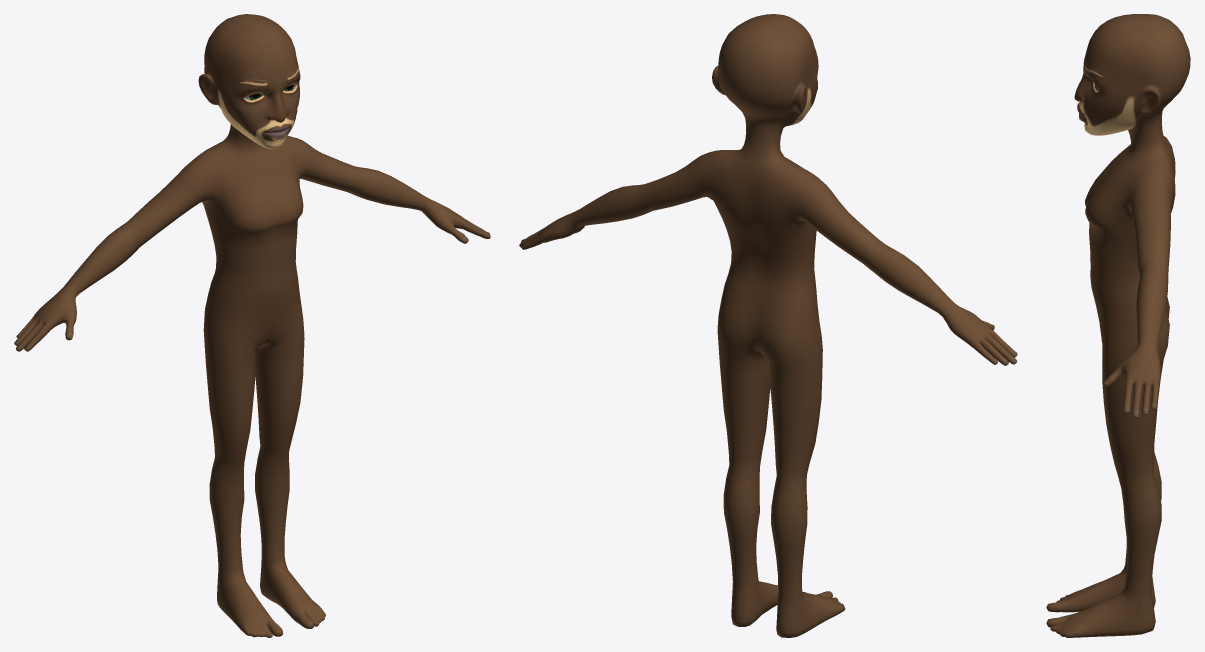
The model's file is frame_0001.glb.
3 renders of one model, left to right at view 1: azimuth 30°, elevation 25°; view 2: azimuth 150°, elevation 25°; view 3: azimuth 270°, elevation 25°, orthographic. The views are drawn at different scales.
Visible parts, largest first — view 1: frame_0001_head_geo; view 2: frame_0001_head_geo; view 3: frame_0001_head_geo.
Part boxes in pixels (<box>): frame_0001_head_geo: <box>14,14,490,637</box>; frame_0001_head_geo: <box>519,14,1017,637</box>; frame_0001_head_geo: <box>1046,14,1190,637</box>.
Size of the model in its own units: 1.28 by 1.5 by 0.3253.
Materials: 3 (3 with a texture image).
